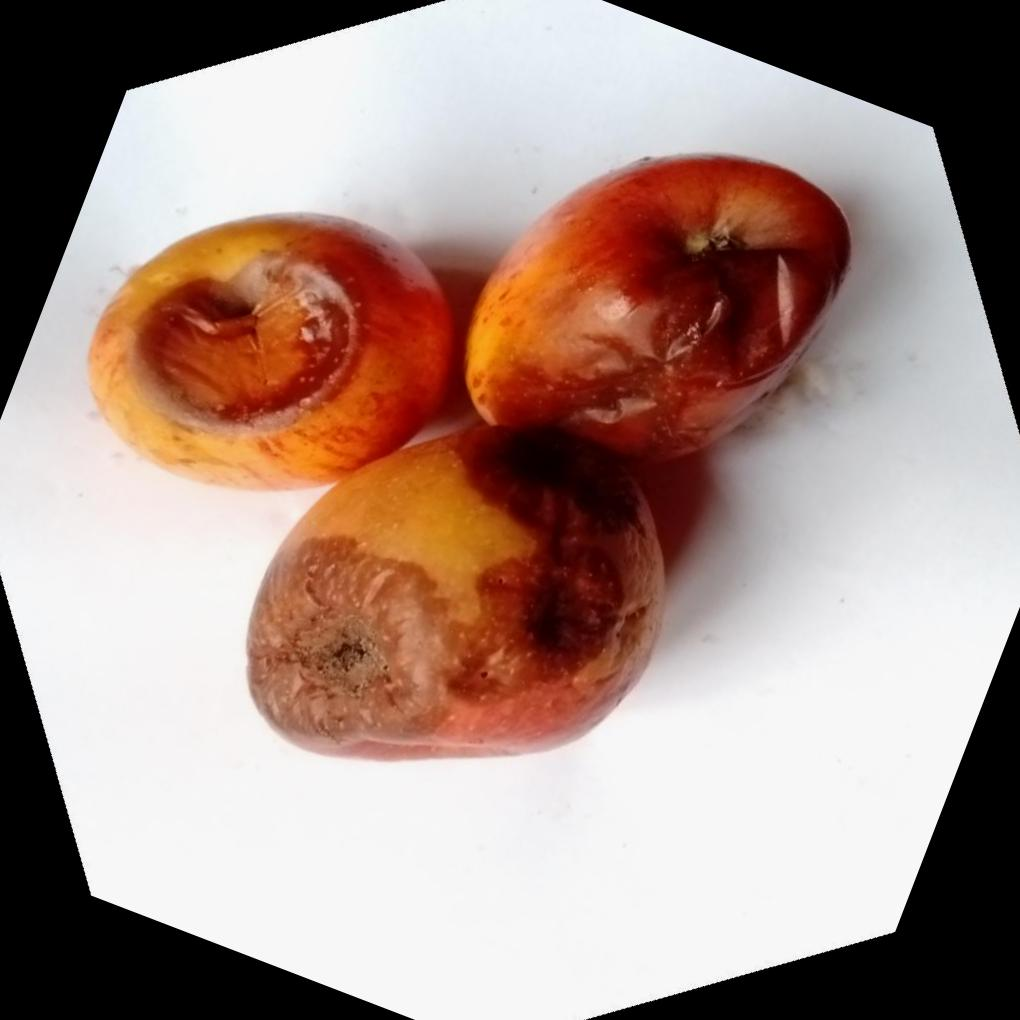FreshOrange: (87, 150, 853, 759)
